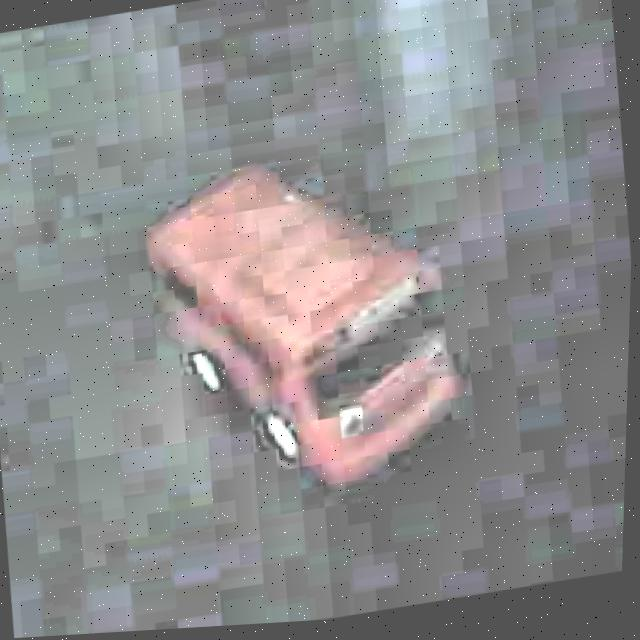bus: (115, 109, 490, 537)
